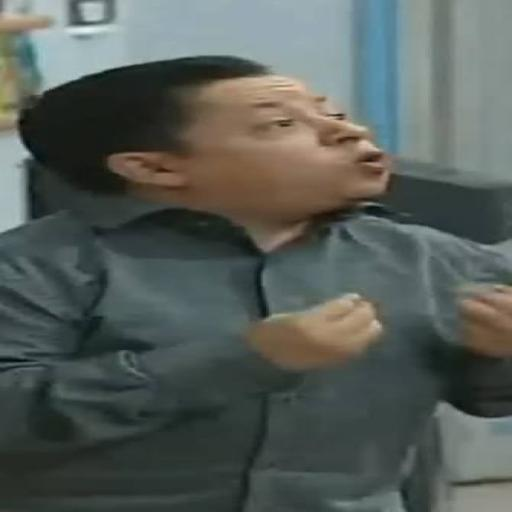fouchika: (109, 74, 388, 207)
